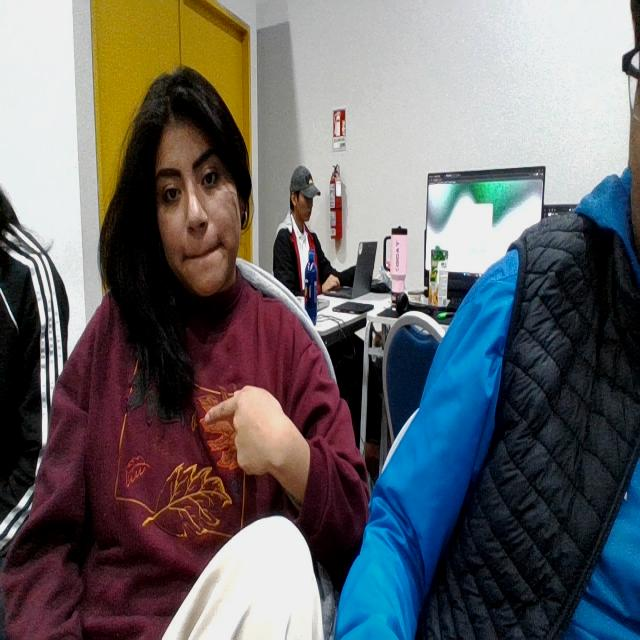i: (201, 368, 304, 492)
